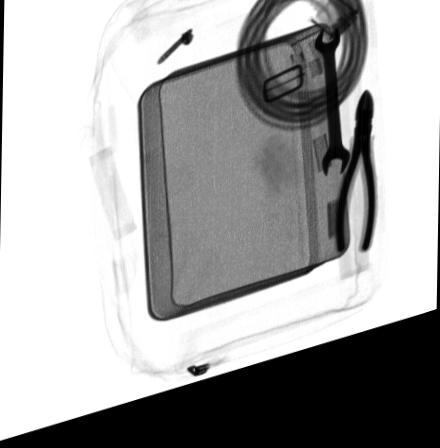Pliers: (331, 111, 373, 275)
Wrench: (312, 47, 349, 200)
